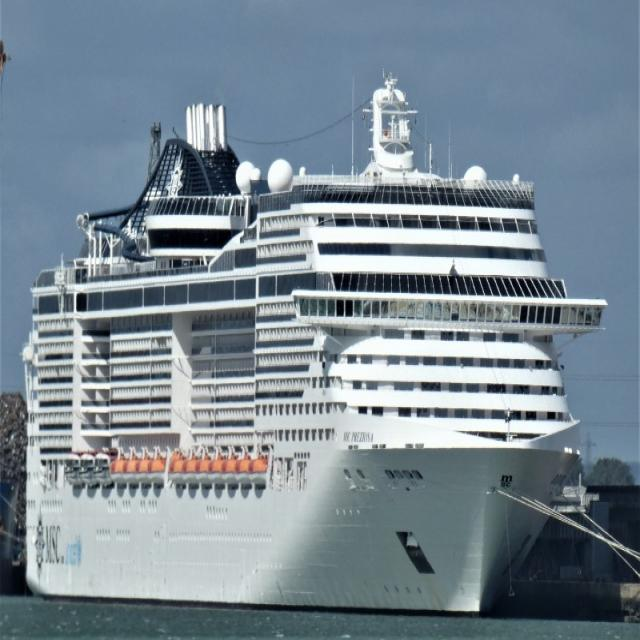cruises: (19, 71, 611, 627)
